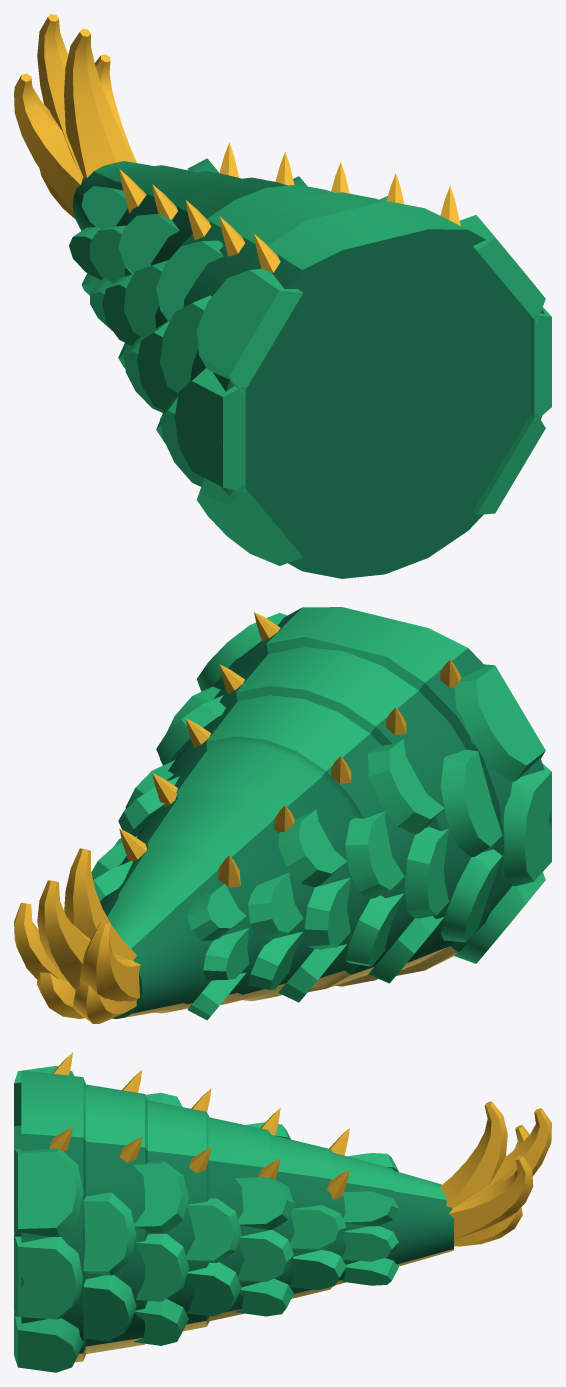
File: dragon_tail.glb
3 renders of one model, top to bottom at view 1: azimuth 30°, elevation 25°; view 2: azimuth 150°, elevation 25°; view 3: azimuth 270°, elevation 25°, orthographic. The views are drawn at different scales.
Visible parts, largest first — view 1: dragon_tail; view 2: dragon_tail; view 3: dragon_tail.
Part boxes in pixels (bbox=[...]): dragon_tail: bbox=[14, 14, 551, 578]; dragon_tail: bbox=[14, 607, 551, 1023]; dragon_tail: bbox=[14, 1052, 551, 1372].
Bounding box in the file's own units: 1.27 × 1.18 × 2.18.
